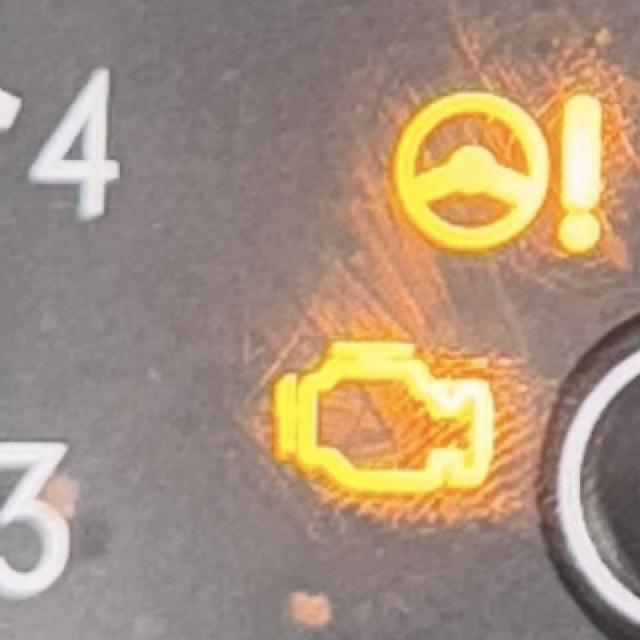Engine Issue: (273, 337, 510, 504)
Steering Wheel Locked: (387, 87, 612, 260)
